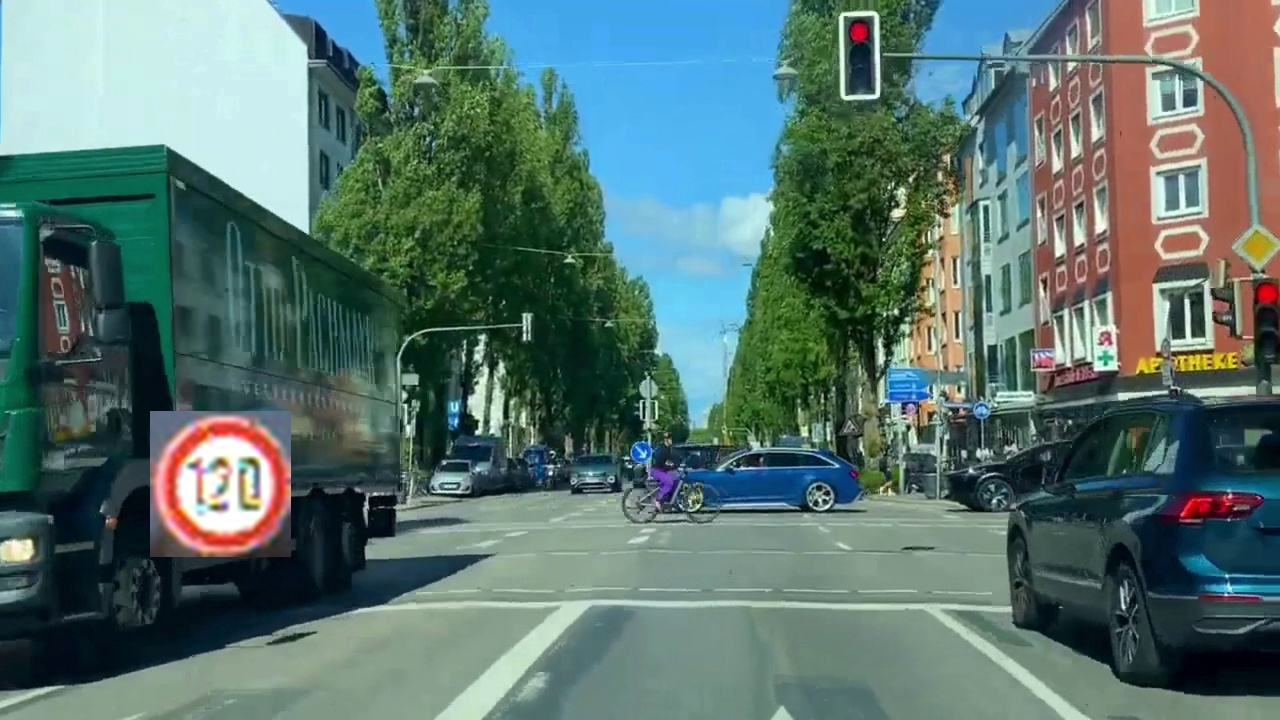Speed 120: (150, 411, 291, 557)
